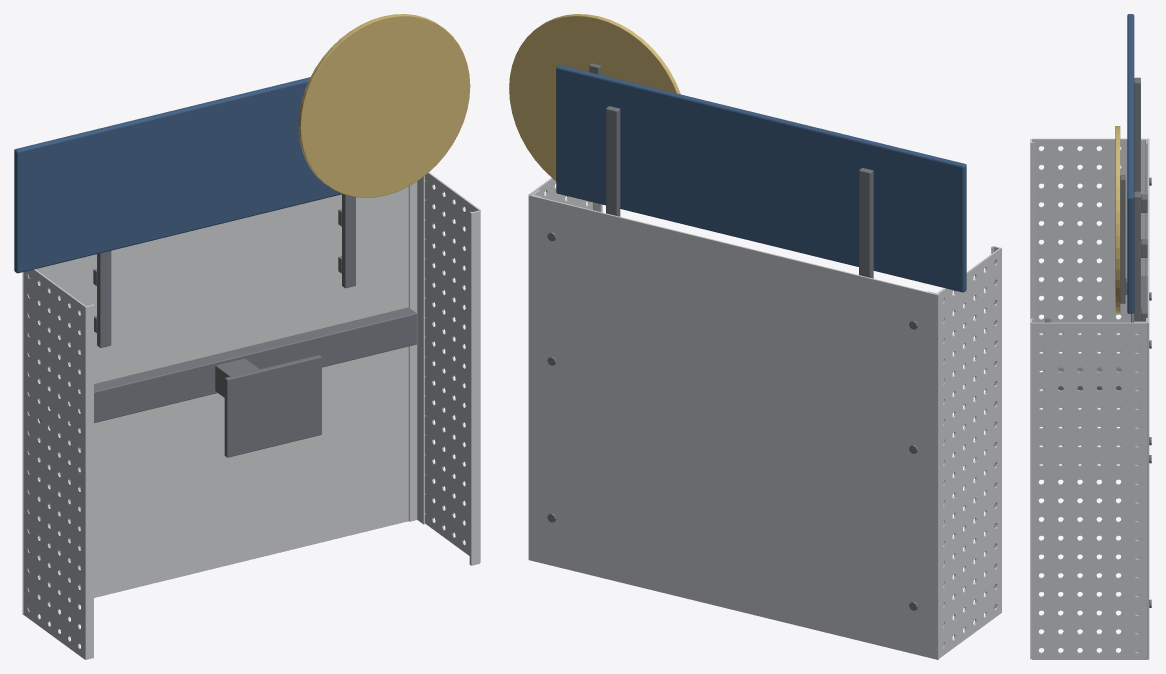
The model's file is customer-information-terminal.glb.
The picture shows the model from 3 angles, left to right: view 1: azimuth 30°, elevation 25°; view 2: azimuth 150°, elevation 25°; view 3: azimuth 270°, elevation 25°; orthographic projection. The views are drawn at different scales.
Visible parts, largest first — view 1: CustomerInformationSurround; view 2: CustomerInformationSurround; view 3: CustomerInformationSurround.
Boxes of the visible parts, left/top/right/bottom form: CustomerInformationSurround: left=14, top=14, right=480, bottom=659; CustomerInformationSurround: left=509, top=14, right=1001, bottom=659; CustomerInformationSurround: left=1030, top=14, right=1151, bottom=659.
Size of the model in its own units: 1.79 by 2.01 by 0.441.
